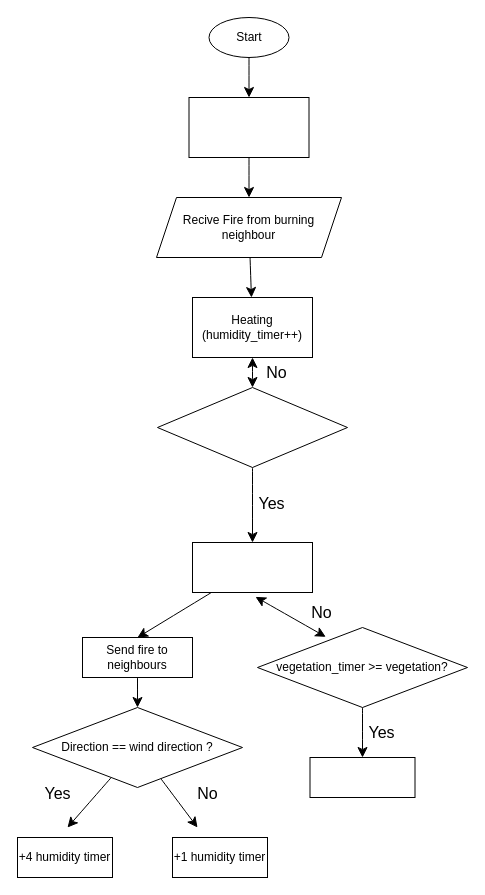
This 485x895 diagram has some shape labels left out. The shapes that lost their labels are listed below. From the top down, each one's centre as x and y in pixels, then its label:
the point at 248,127: State = 0 (Idle)
the point at 252,427: humidity_timer >= humidity?
the point at 252,567: State = 1 (Burning)
the point at 362,777: State = 2 (Burnt)
